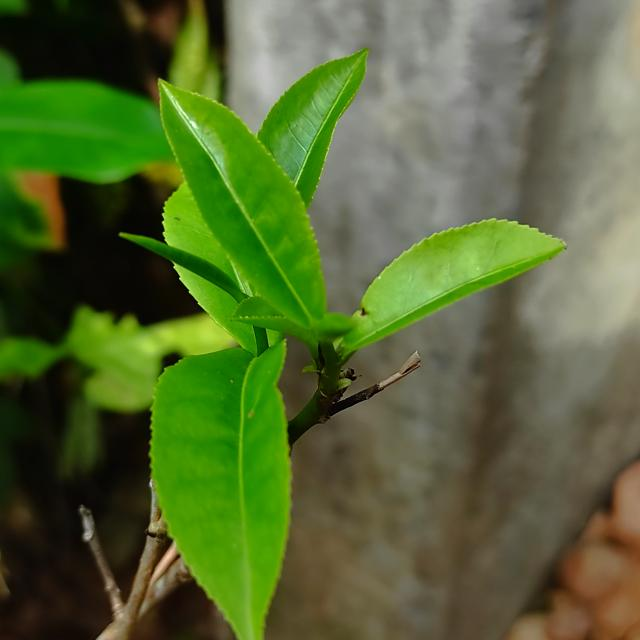unopened_leaf: (112, 226, 278, 354)
